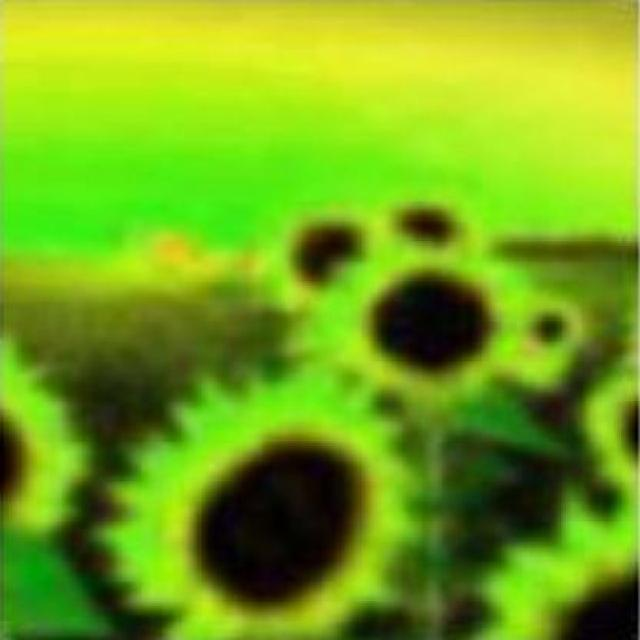sunflower: (90, 378, 418, 640), (331, 249, 528, 396)
